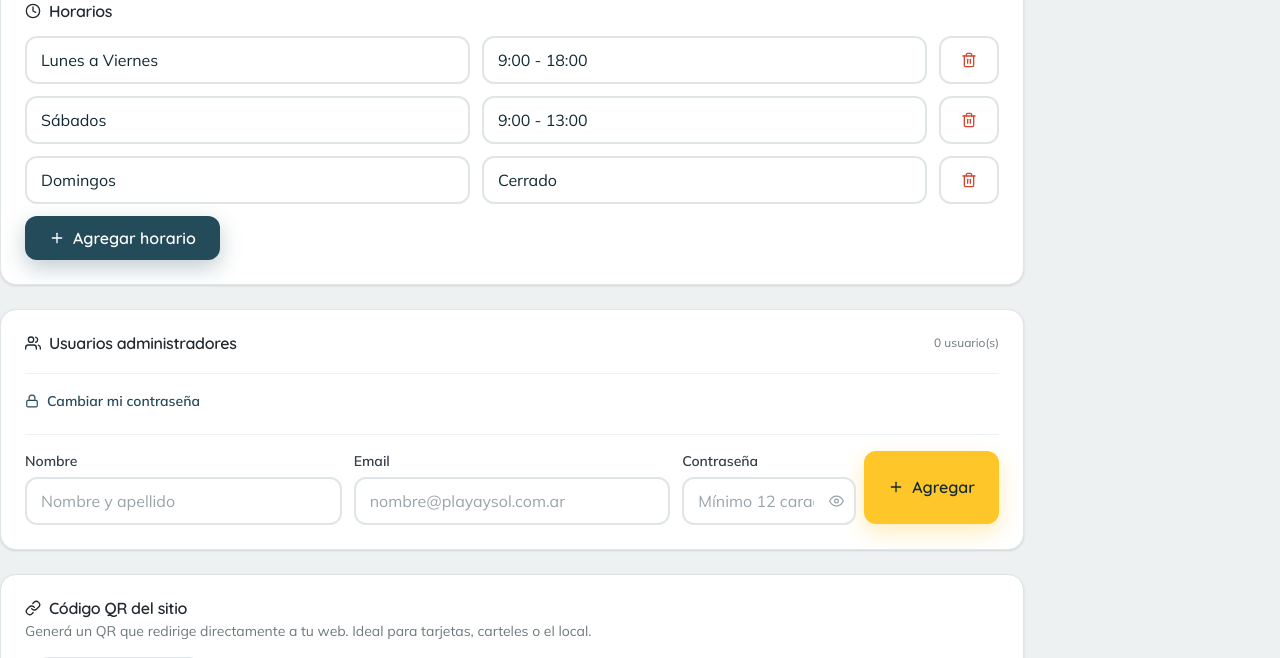
AdminSettings — cambiar mi contraseña › el formulario está oculto hasta hacer click en "Cambiar mi contraseña"
The width and height of the screenshot is (1280, 658).
(page scrolled)
Check: the field labelled "Contraseña actual" is not shown
Click the button "Cambiar mi contraseña". click: (113, 401)
box: [25,391,200,411]
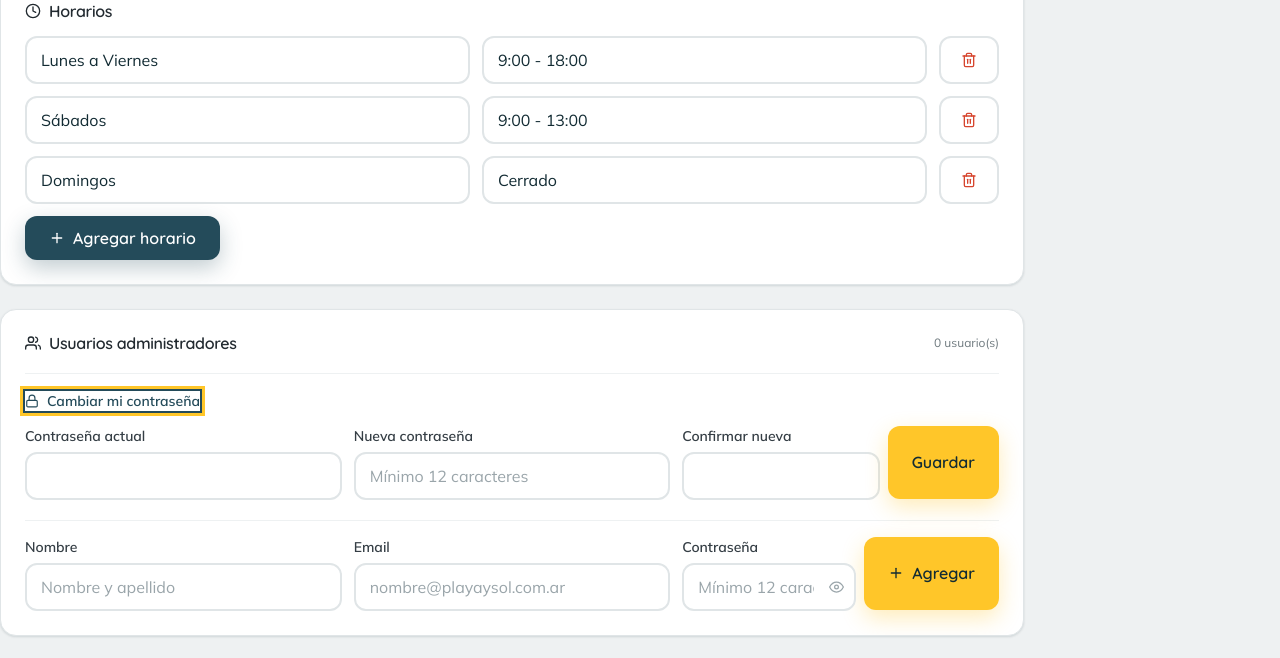
Check: the password field labelled "Contraseña actual" is shown, box [25,452,342,500]
